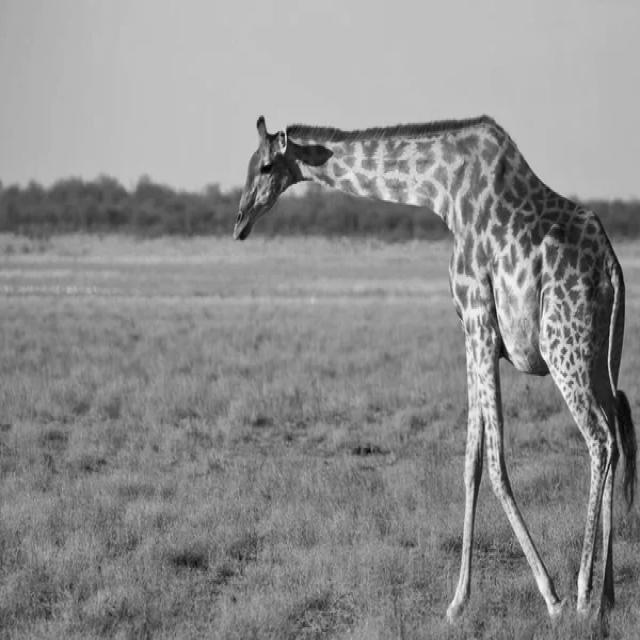Animal: (233, 115, 638, 621)
